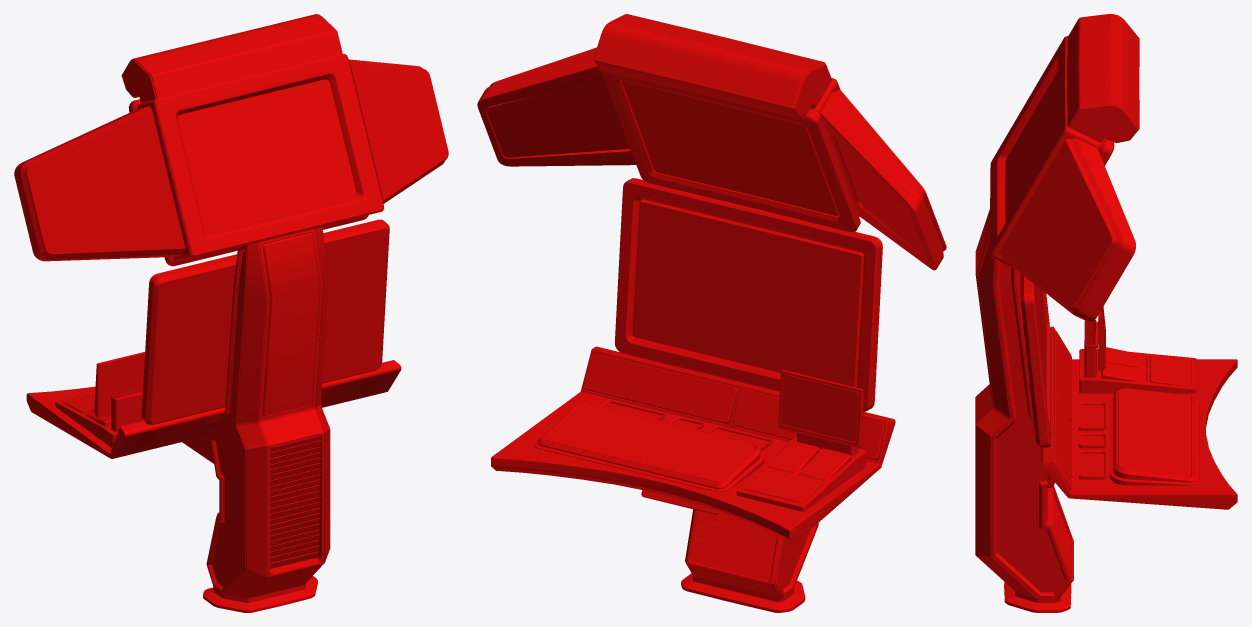
The model's file is Terminal_1.fbx.
3 renders of one model, left to right at view 1: azimuth 30°, elevation 25°; view 2: azimuth 150°, elevation 25°; view 3: azimuth 270°, elevation 25°, orthographic. The views are drawn at different scales.
Parts seen in each view (by area): view 1: L2:polySurface17; view 2: L2:polySurface17; view 3: L2:polySurface17.
Part boxes in pixels (x1,y1,x2,y2): L2:polySurface17: [14, 14, 448, 612]; L2:polySurface17: [477, 14, 946, 612]; L2:polySurface17: [975, 14, 1237, 612].
Bounding box in the file's own units: 184 × 229 × 103.
